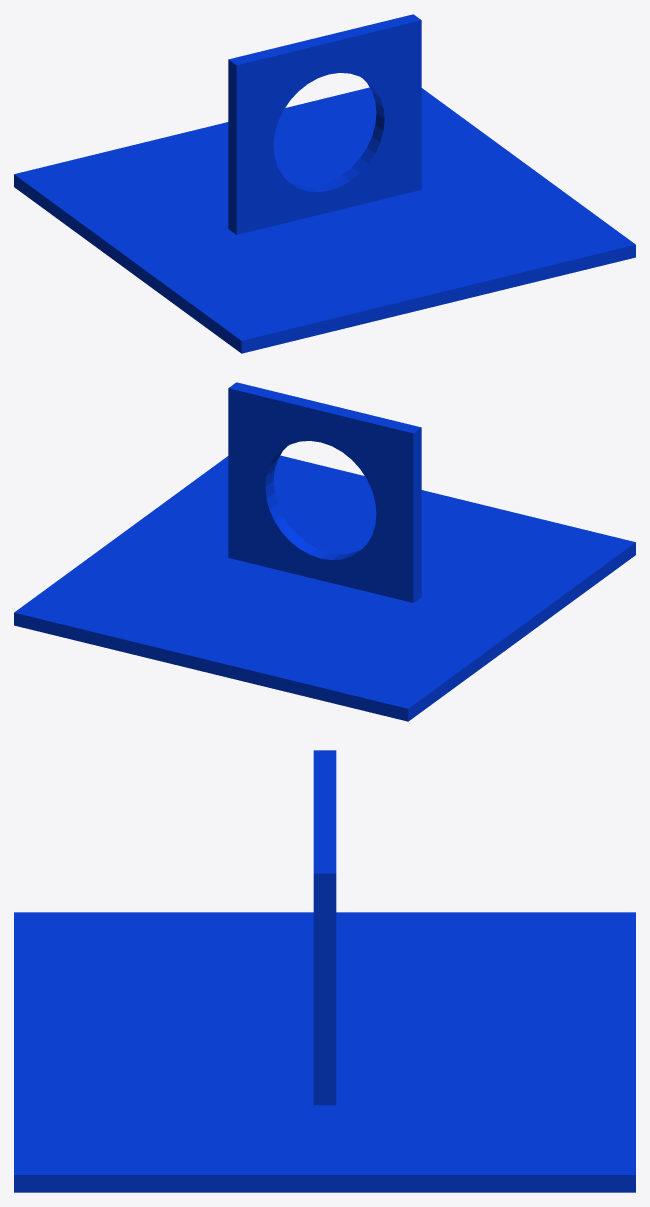
3 renders of one model, top to bottom at view 1: azimuth 30°, elevation 25°; view 2: azimuth 150°, elevation 25°; view 3: azimuth 270°, elevation 25°, orthographic. The views are drawn at different scales.
Parts seen in each view (by area): view 1: Cube.006; view 2: Cube.006; view 3: Cube.006.
Boxes of the visible parts, <box> form: Cube.006: <box>14,14,635,353</box>; Cube.006: <box>14,382,635,721</box>; Cube.006: <box>14,750,635,1192</box>.
Size of the model in its own units: 400 by 400 by 177.
